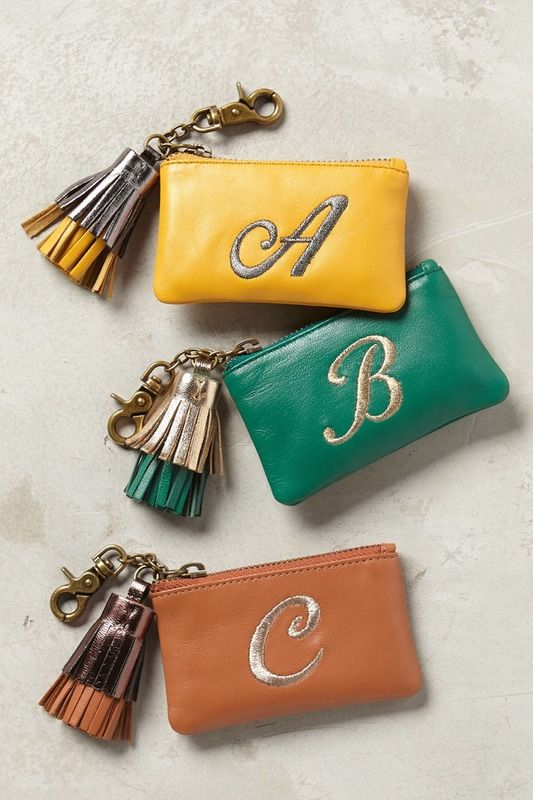cuero: (152, 152, 510, 735)
